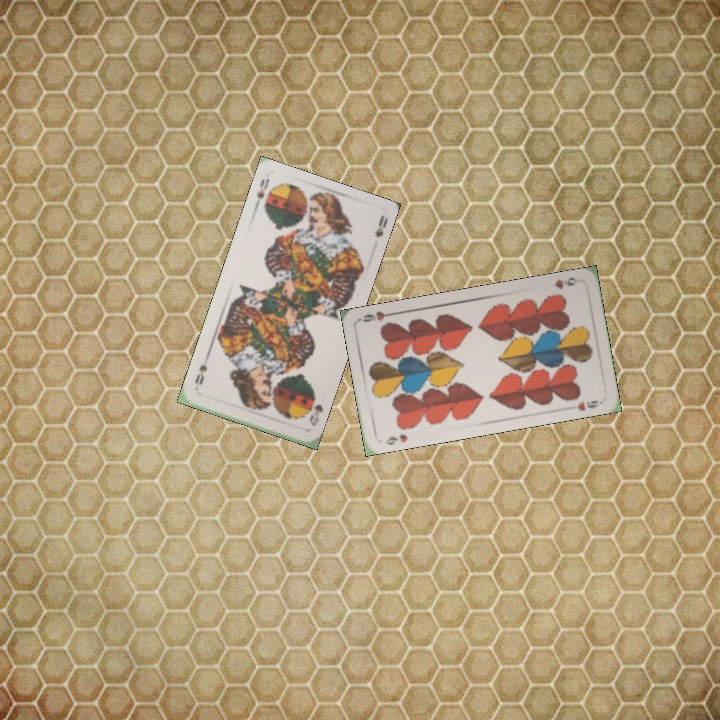H9: (550, 273, 580, 292), (382, 430, 410, 448)
SO: (250, 174, 272, 213), (305, 400, 325, 428)
